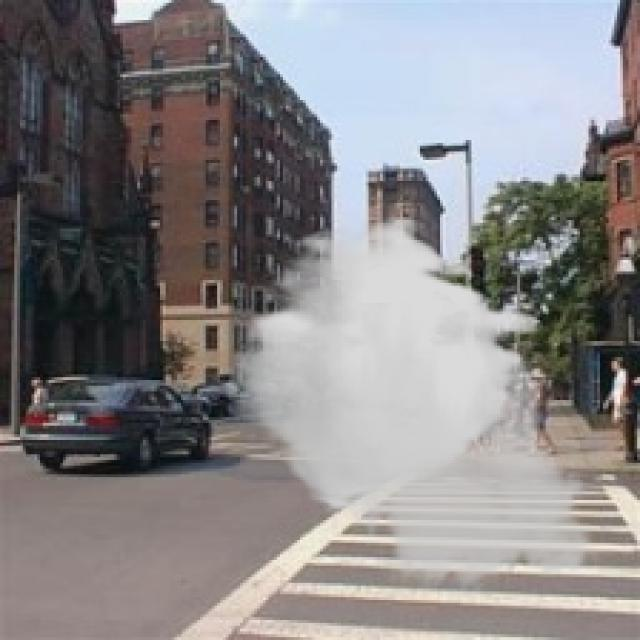smoke: (228, 214, 608, 600)
